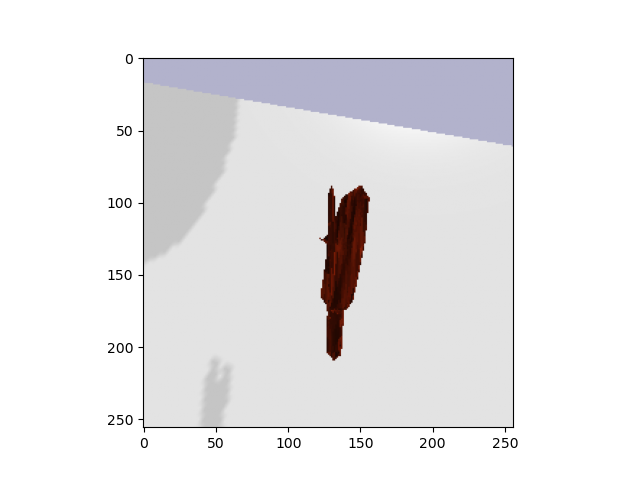v249b387_107: (306, 180, 379, 363)
